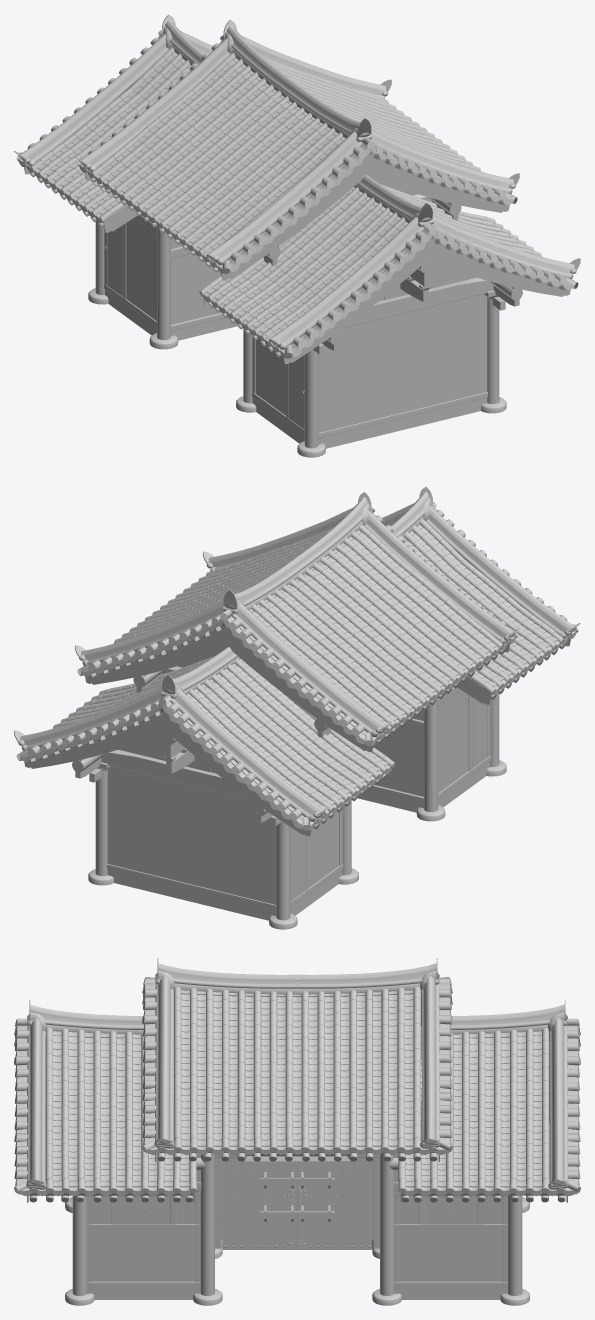
The model's file is SM_Main_Gate.fbx.
The picture shows the model from 3 angles, top to bottom: view 1: azimuth 30°, elevation 25°; view 2: azimuth 150°, elevation 25°; view 3: azimuth 270°, elevation 25°; orthographic projection. The views are drawn at different scales.
Visible parts, largest first — view 1: Main_Gate_mesh; view 2: Main_Gate_mesh; view 3: Main_Gate_mesh.
Boxes of the visible parts, bbox=[...] form: Main_Gate_mesh: bbox=[14, 14, 580, 457]; Main_Gate_mesh: bbox=[14, 486, 580, 929]; Main_Gate_mesh: bbox=[14, 958, 580, 1305].
Size of the model in its own units: 730 by 625 by 1087.
